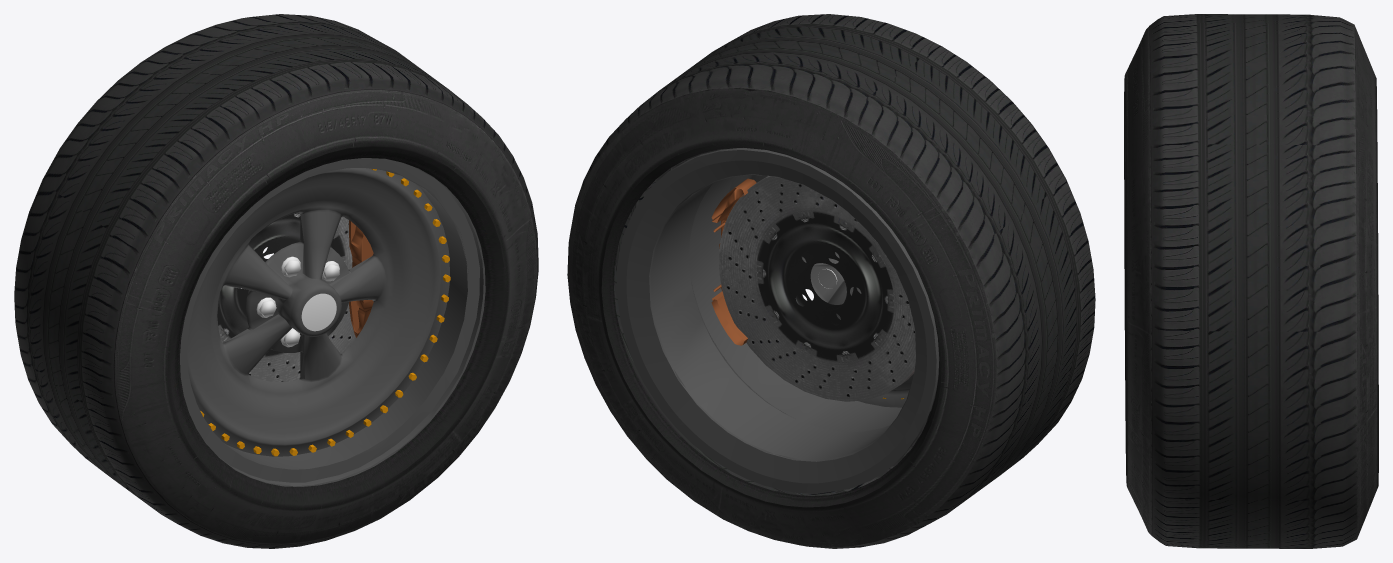
Rendered from Tyre_Type_7.fbx.
3 views of the same model, side by side, from view 1: azimuth 30°, elevation 25°; view 2: azimuth 150°, elevation 25°; view 3: azimuth 270°, elevation 25° (orthographic). The views are drawn at different scales.
Visible parts, largest first — view 1: Rubber, Rim7, Rim, Disc, Outer Screws, Caliper; view 2: Rubber, Rim, Disc, Rim7, Caliper; view 3: Rubber.
Part boxes in pixels (box(x1,y1,x2,y2)): Rubber: box(14, 14, 538, 548); Rim7: box(187, 168, 449, 456); Rim: box(180, 158, 485, 486); Disc: box(217, 212, 355, 381); Outer Screws: box(200, 169, 450, 456); Caliper: box(349, 220, 373, 337); Rubber: box(567, 14, 1095, 548); Rim: box(617, 148, 939, 493); Disc: box(719, 176, 915, 401); Rim7: box(729, 175, 913, 407); Caliper: box(711, 178, 756, 345); Rubber: box(1124, 14, 1378, 548).
Bounding box in the file's own units: 55.47 × 55.36 × 26.42.
